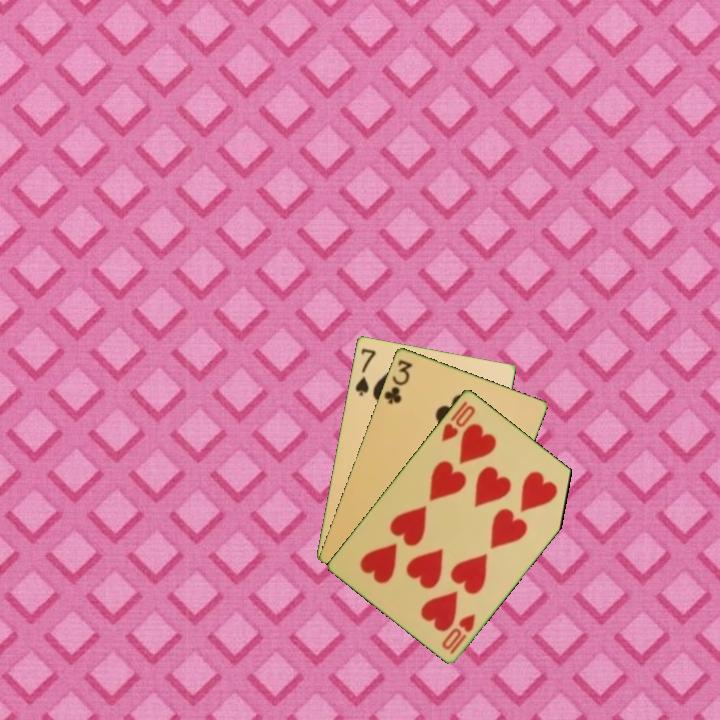10h: (438, 610, 479, 657), (438, 397, 478, 444)
3c: (380, 356, 415, 407)
7s: (351, 344, 379, 399)
